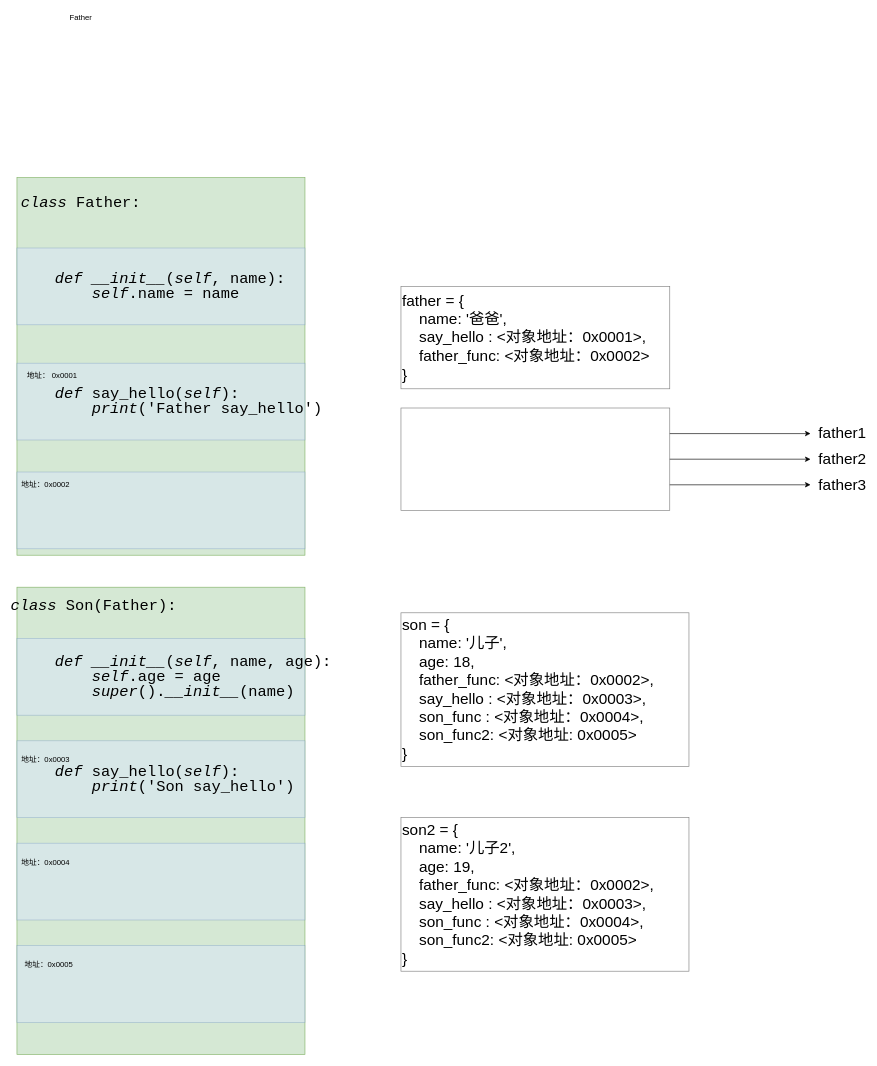
This 877x1066 diagram has some shape labels left out. Each missing label, with the box of its shape:
def father_func ( self ): pass: (16, 471, 305, 549)
def son_func ( self ): pass: (16, 843, 305, 920)
def son_func2( self ): print(f'{self.name} son_func2'): (16, 945, 305, 1022)
{ name: '爸爸', say_hello : <对象地址：0x0001>, father_func: <对象地址：0x0002> }: (400, 407, 670, 510)
